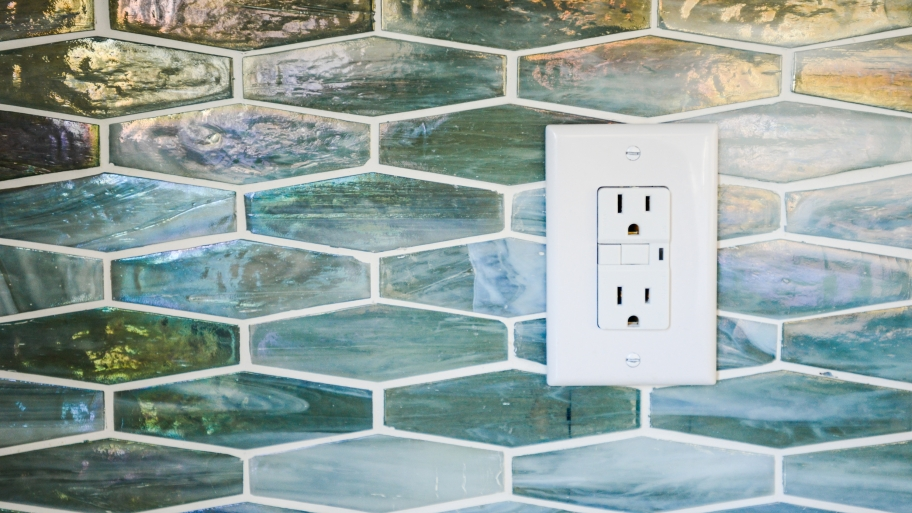outlet: (609, 188, 659, 238), (612, 280, 659, 329)
